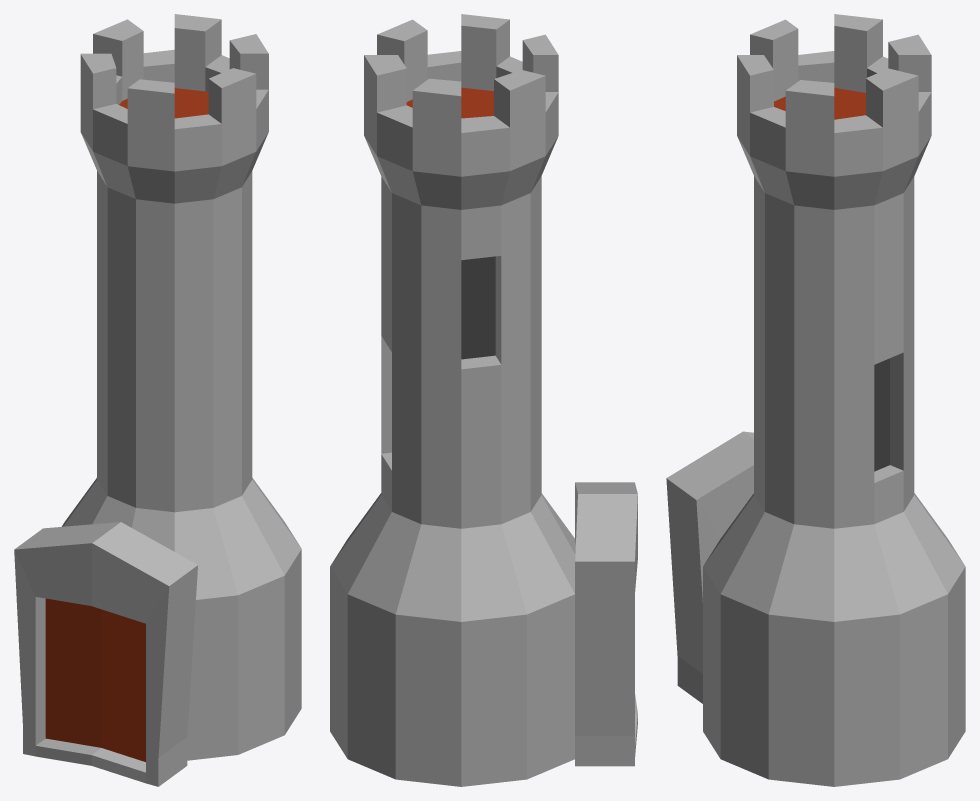
File: tower.fbx
The picture shows the model from 3 angles, left to right: view 1: azimuth 30°, elevation 25°; view 2: azimuth 150°, elevation 25°; view 3: azimuth 270°, elevation 25°; orthographic projection. The views are drawn at different scales.
Visible parts, largest first — view 1: Cylinder; view 2: Cylinder; view 3: Cylinder.
Part boxes in pixels (x1,y1,x2,y2): Cylinder: [14, 14, 301, 786]; Cylinder: [330, 14, 637, 786]; Cylinder: [666, 14, 965, 786].
Bounding box in the file's own units: 2.49 × 5.69 × 2.28.
